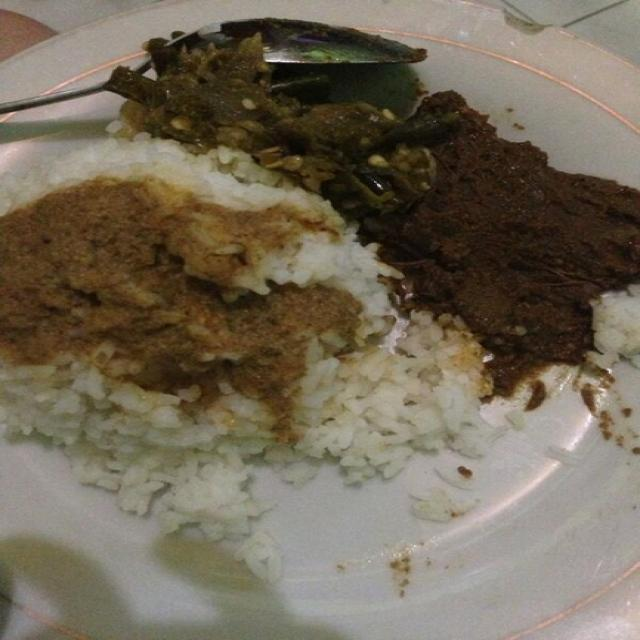米饭主食: (12, 13, 627, 629)
